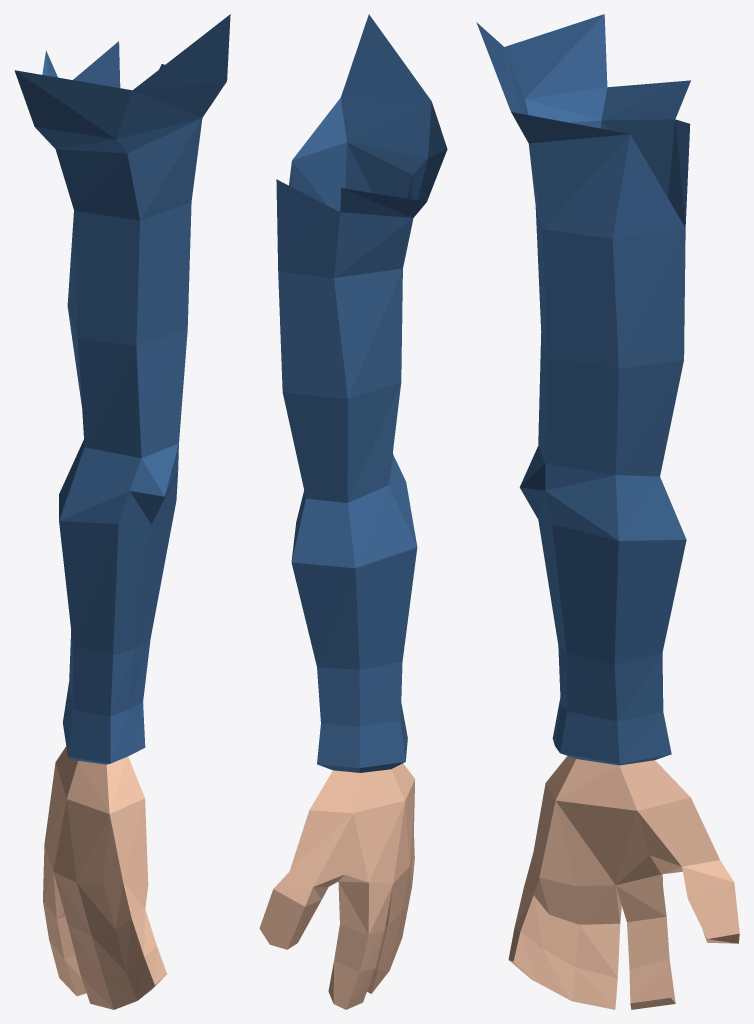
File: ArmL.obj
3 views of the same model, side by side, from view 1: azimuth 30°, elevation 25°; view 2: azimuth 150°, elevation 25°; view 3: azimuth 270°, elevation 25° (orthographic). The views are drawn at different scales.
Size of the model in its own units: 0.1573 by 0.9166 by 0.2143.
Materials: 1 (1 with a texture image).
